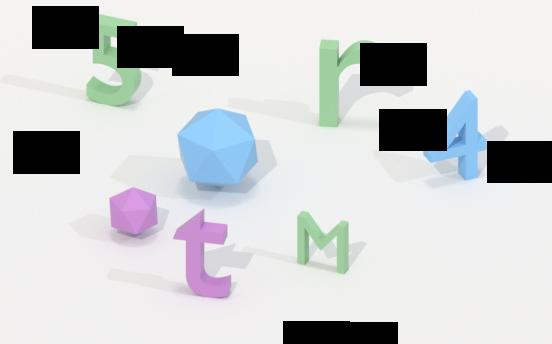4: (415, 91, 495, 182)
5: (86, 13, 145, 109)
M-hoa: (292, 210, 354, 273)
R: (312, 37, 392, 129)
dagiac: (169, 109, 266, 188), (105, 187, 165, 238)
t: (166, 210, 243, 300)
